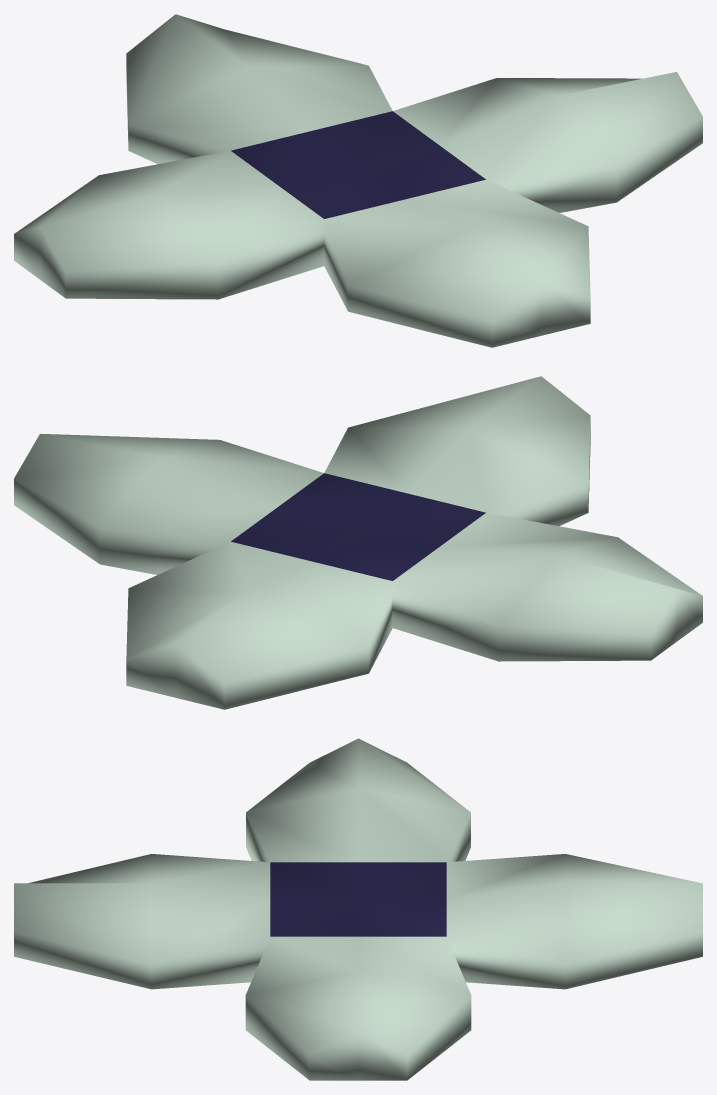
Rendered from Flor1.fbx.
3 renders of one model, top to bottom at view 1: azimuth 30°, elevation 25°; view 2: azimuth 150°, elevation 25°; view 3: azimuth 270°, elevation 25°, orthographic. The views are drawn at different scales.
Parts seen in each view (by area): view 1: Flor1; view 2: Flor1; view 3: Flor1.
Boxes of the visible parts, left/top/right/bottom form: Flor1: left=14, top=14, right=702, bottom=347; Flor1: left=14, top=376, right=702, bottom=709; Flor1: left=14, top=738, right=702, bottom=1080.
Bounding box in the file's own units: 55.1 × 5.6 × 54.8.
